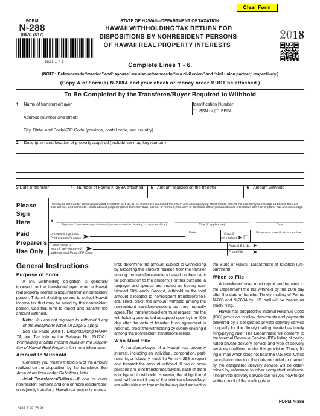checkbox: (191, 107, 198, 113), (213, 107, 219, 113), (242, 233, 248, 239)
textbox: (13, 113, 306, 130), (13, 125, 306, 142), (13, 100, 194, 116), (146, 183, 245, 199), (66, 183, 149, 200), (92, 241, 229, 251), (92, 247, 229, 257), (242, 183, 306, 199), (89, 228, 186, 238), (89, 234, 186, 244), (14, 183, 70, 200), (248, 228, 304, 244), (225, 241, 305, 251), (225, 247, 305, 257), (183, 228, 222, 244)
textline: (15, 148, 306, 156), (14, 160, 305, 168), (15, 154, 306, 161), (14, 167, 305, 174), (15, 174, 306, 181), (15, 143, 303, 148), (55, 214, 168, 224), (173, 214, 250, 224), (253, 214, 305, 224)
